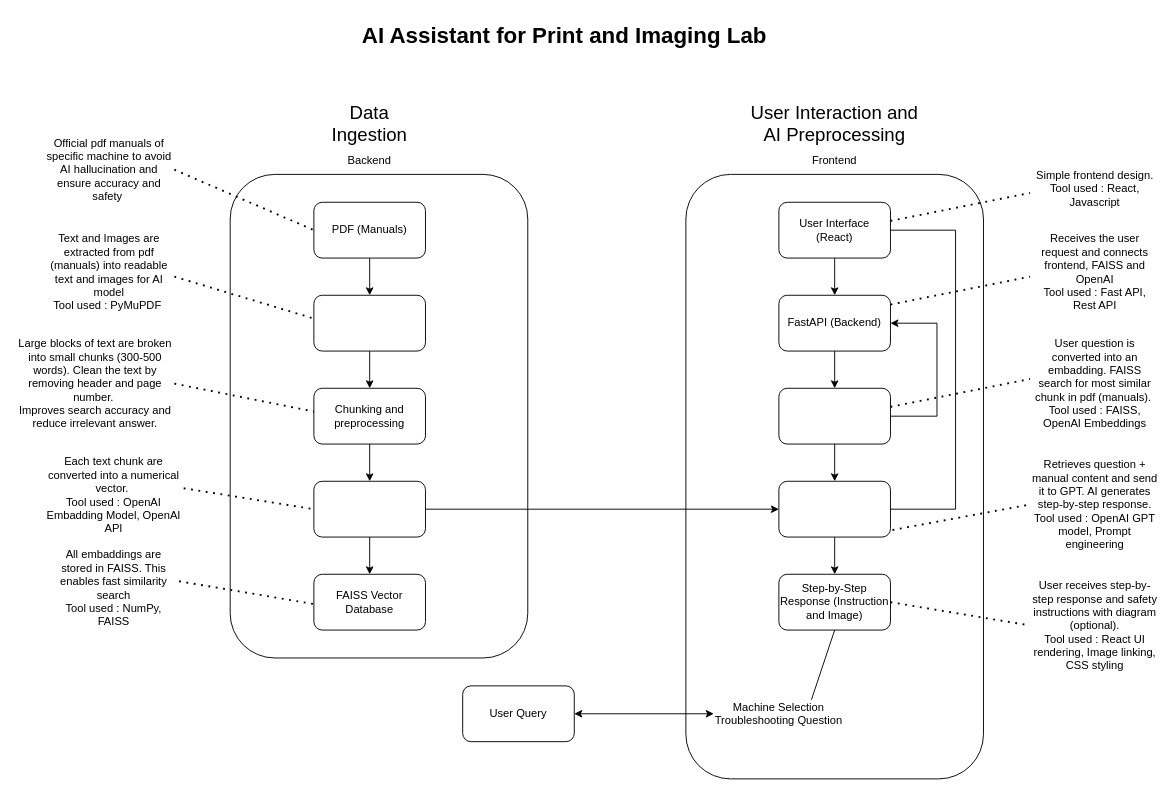
Image size: 1176x795. Some labels were removed from this diagram. The shapes that lost their labels are listed below. From the top down, each one's centre as x and y in pixels, then its label:
At point 369,322: "Text and Image Extraction".
At point 834,415: "Semantic Search (FAISS)".
At point 369,508: "OpenAI Embeddings".
At point 834,508: "OpenAI API".
